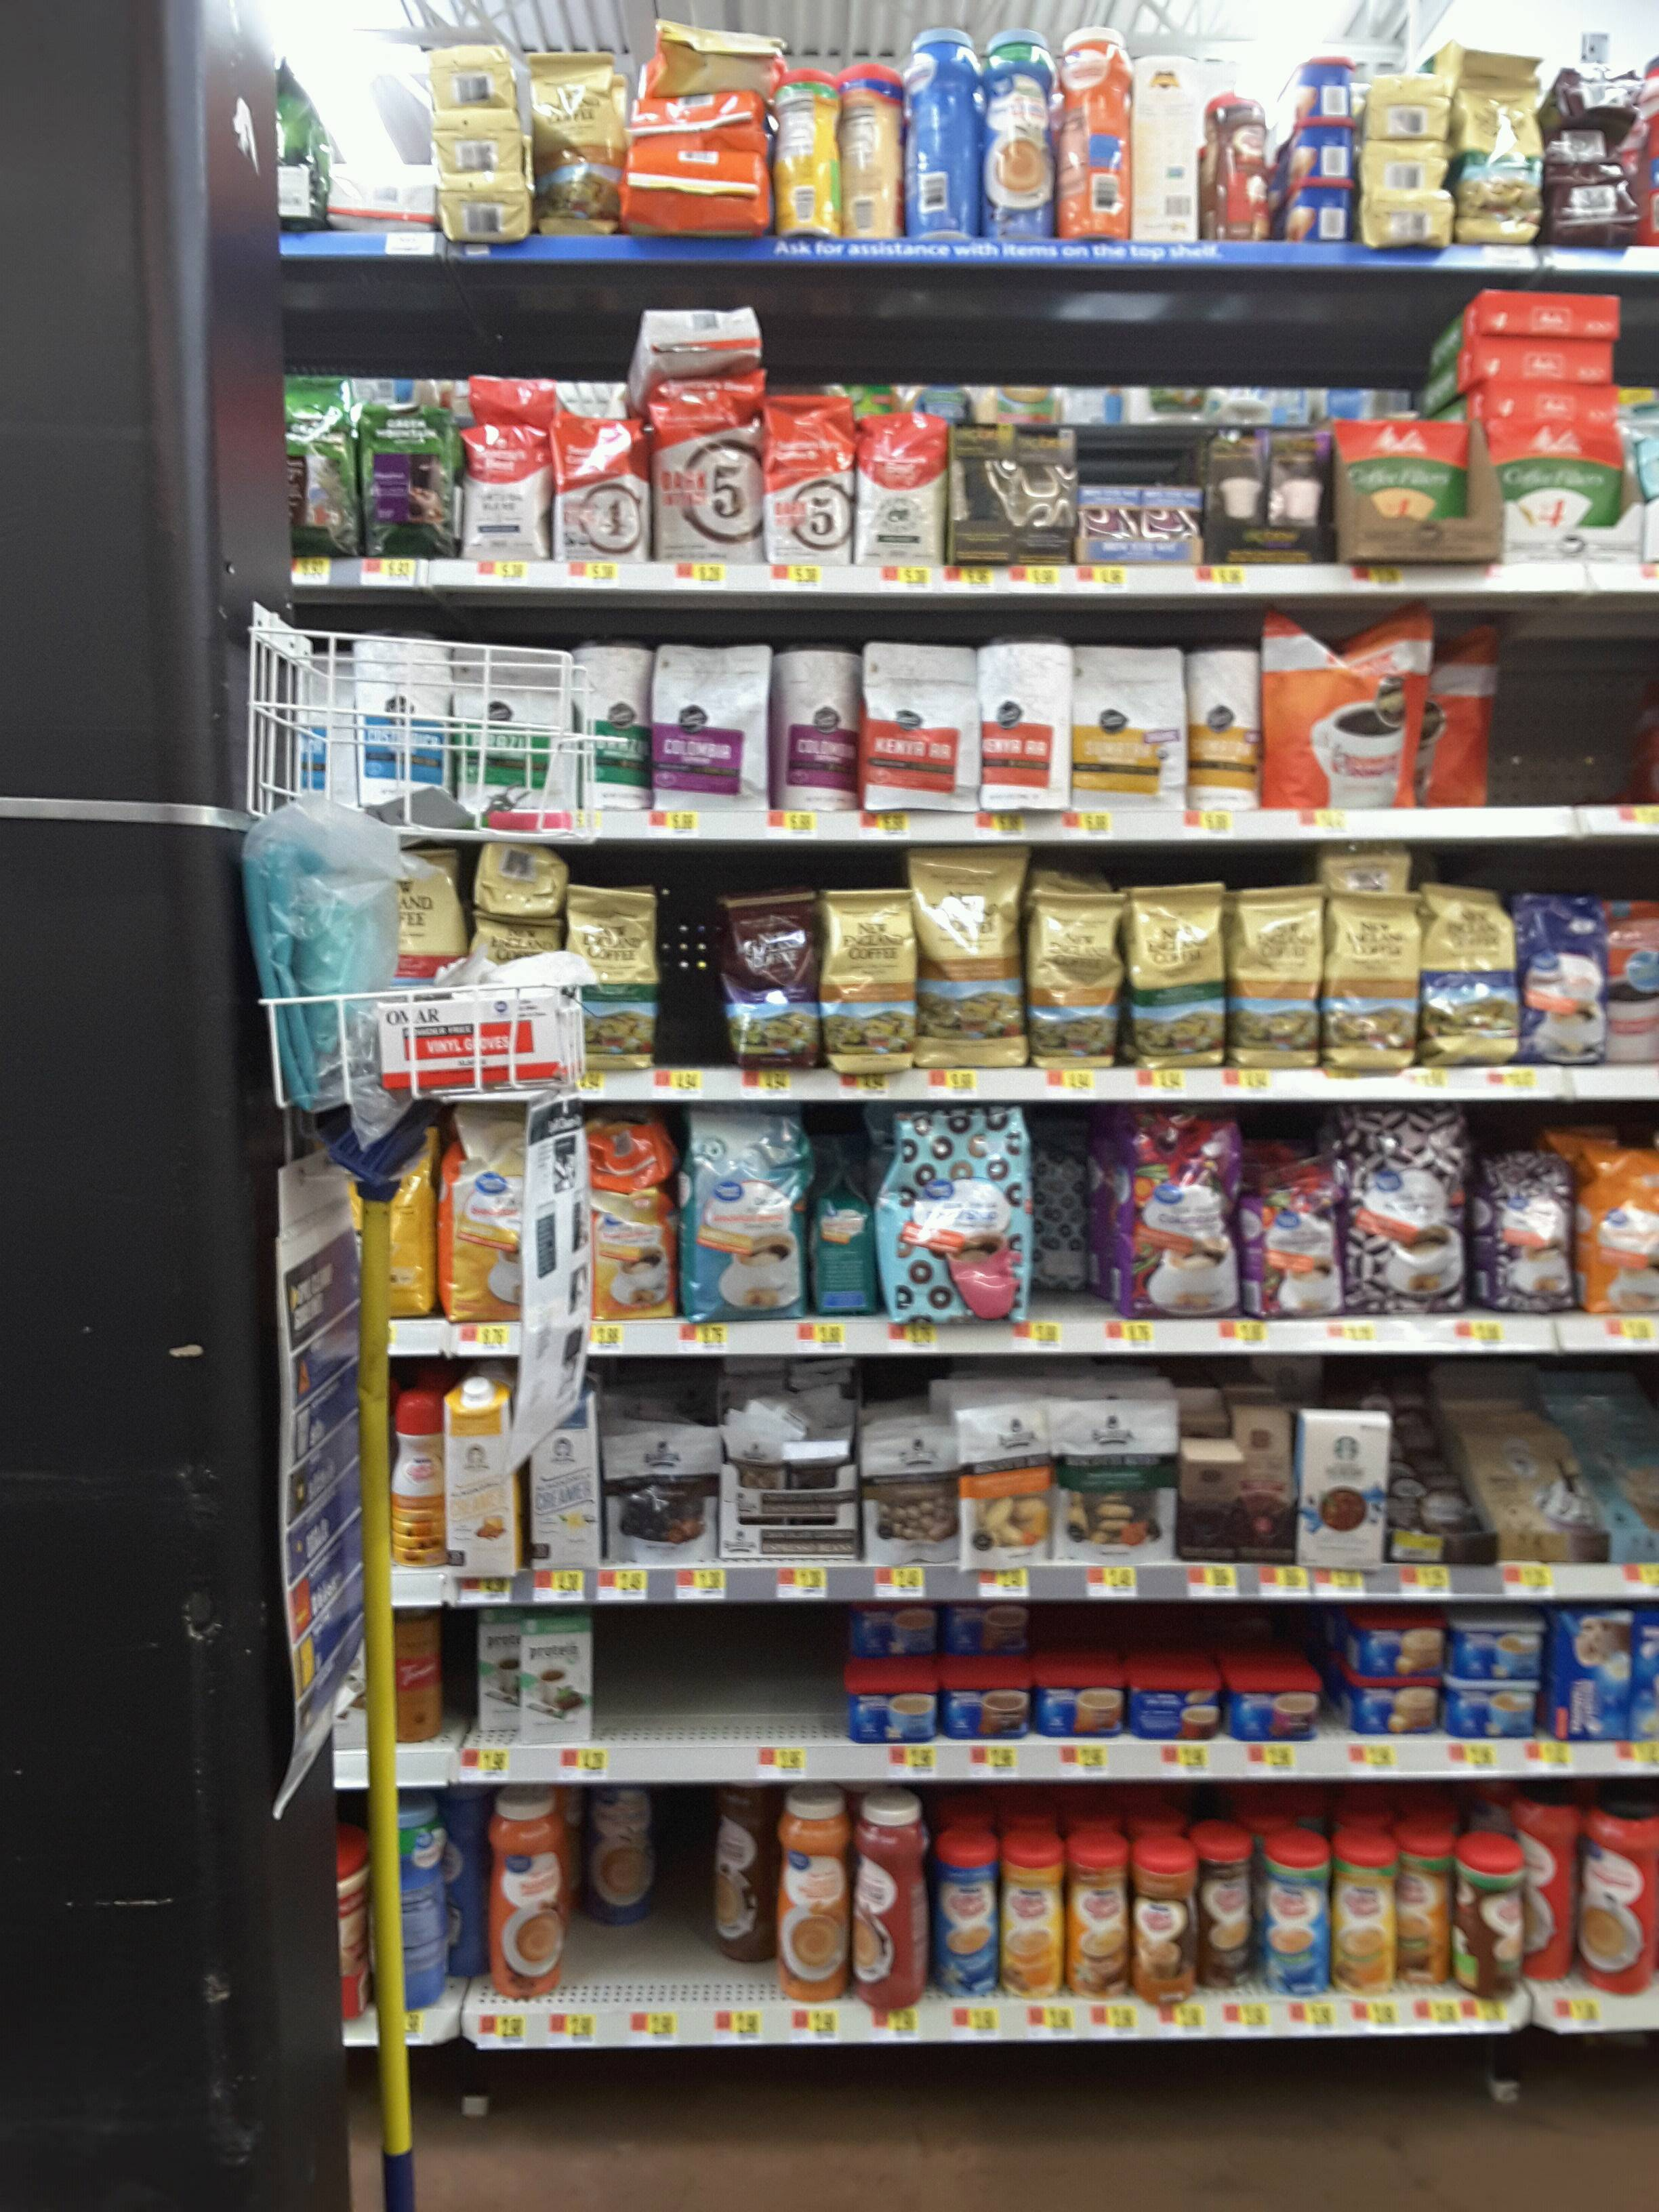Misplacement: (1030, 1103, 1121, 1320)
Out-of-stock: (601, 1604, 842, 1740)
